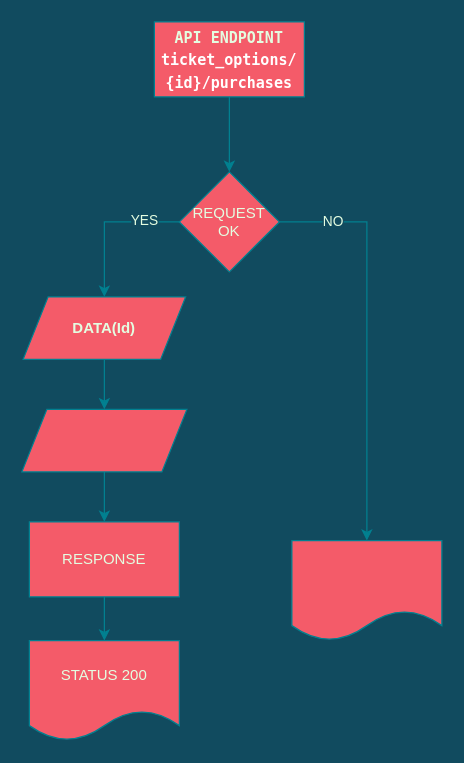
This 464x763 diagram has some shape labels left out. The shapes that lost their labels are listed below. From the top down, each one's box as (x1, y1, x2, y2) in pixels, then its label:
(21, 408, 187, 472): DATA( quantity , user_id )
(291, 539, 442, 641): STATUS 4XX
